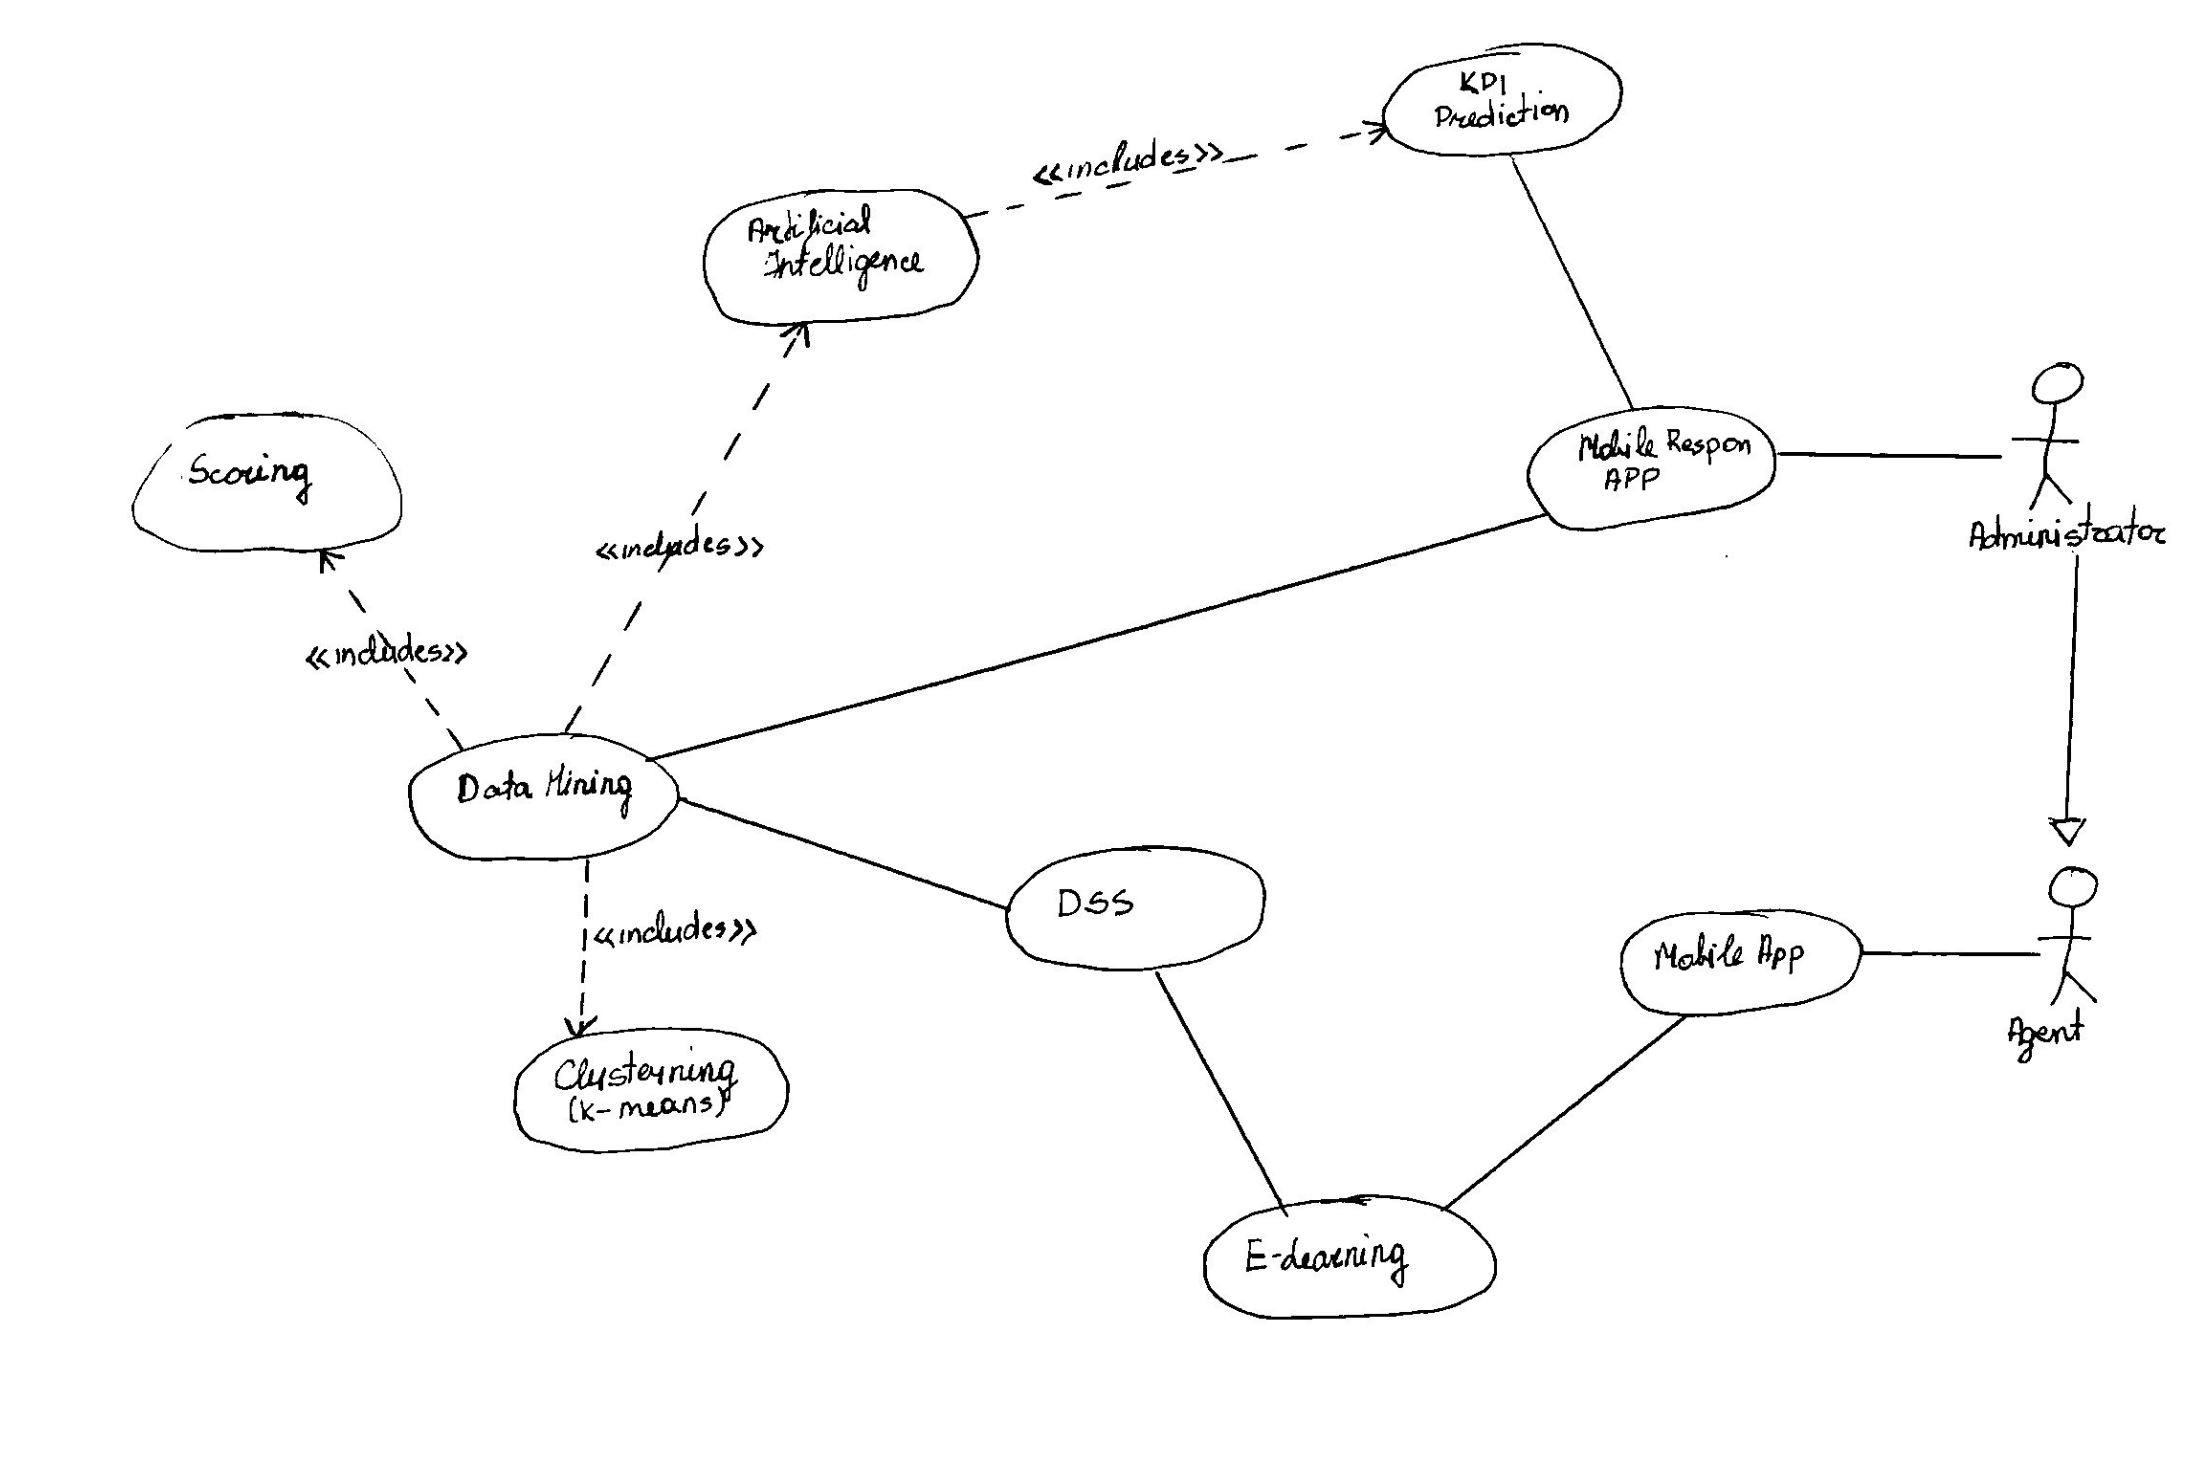actor: (2006, 355, 2092, 517), (2034, 863, 2101, 1009)
association: (652, 512, 1540, 768), (567, 322, 818, 732), (1446, 1010, 1688, 1205), (970, 113, 1387, 222), (684, 796, 1012, 917), (1506, 154, 1637, 410), (316, 548, 464, 747), (1159, 973, 1280, 1207), (1782, 420, 2003, 487), (1867, 924, 2038, 981), (561, 857, 607, 1035)
generalization: (2049, 554, 2092, 850)
text: (742, 203, 937, 296), (1231, 1226, 1441, 1305), (551, 1051, 749, 1125), (450, 754, 644, 826), (178, 441, 342, 522), (1580, 423, 1751, 494), (1966, 505, 2173, 558), (1434, 65, 1585, 137), (590, 907, 773, 961), (1029, 132, 1218, 181), (1652, 929, 1818, 984), (567, 531, 778, 571), (1047, 871, 1158, 935), (307, 633, 479, 670), (1998, 1010, 2106, 1063)
use_case: (134, 409, 404, 559), (702, 186, 980, 330), (1202, 1195, 1496, 1326), (406, 729, 679, 865), (505, 1027, 790, 1154), (1006, 840, 1269, 971), (1526, 402, 1778, 531), (1379, 41, 1629, 159), (1617, 907, 1864, 1020)
